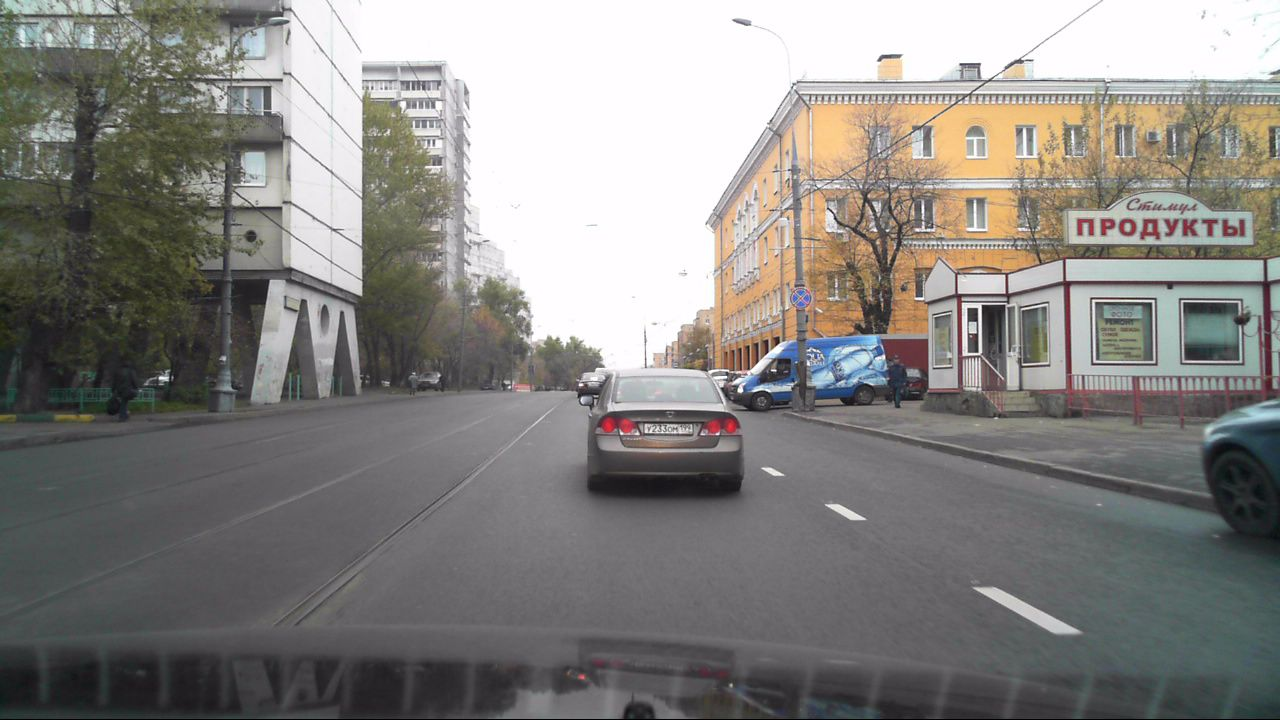No Parking: (790, 287, 811, 309)
